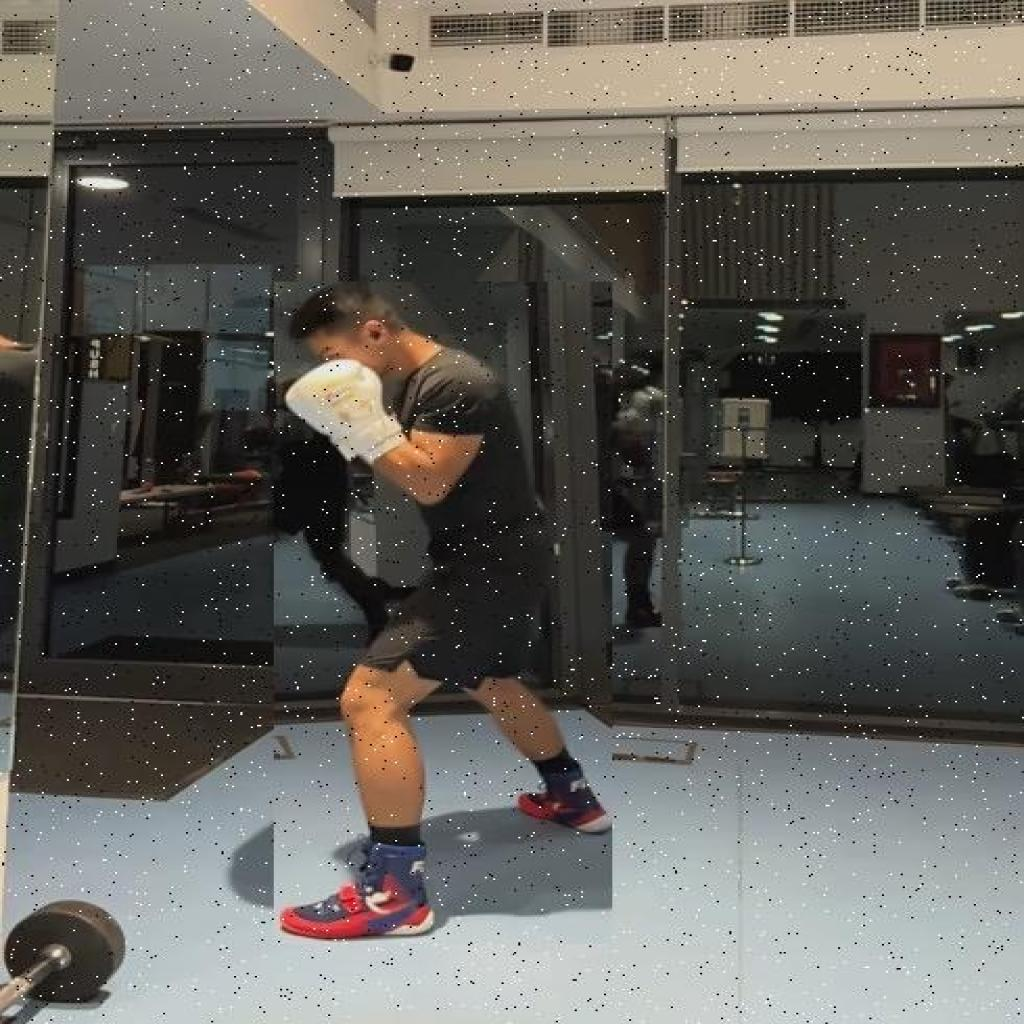no punch: (274, 282, 612, 943)
